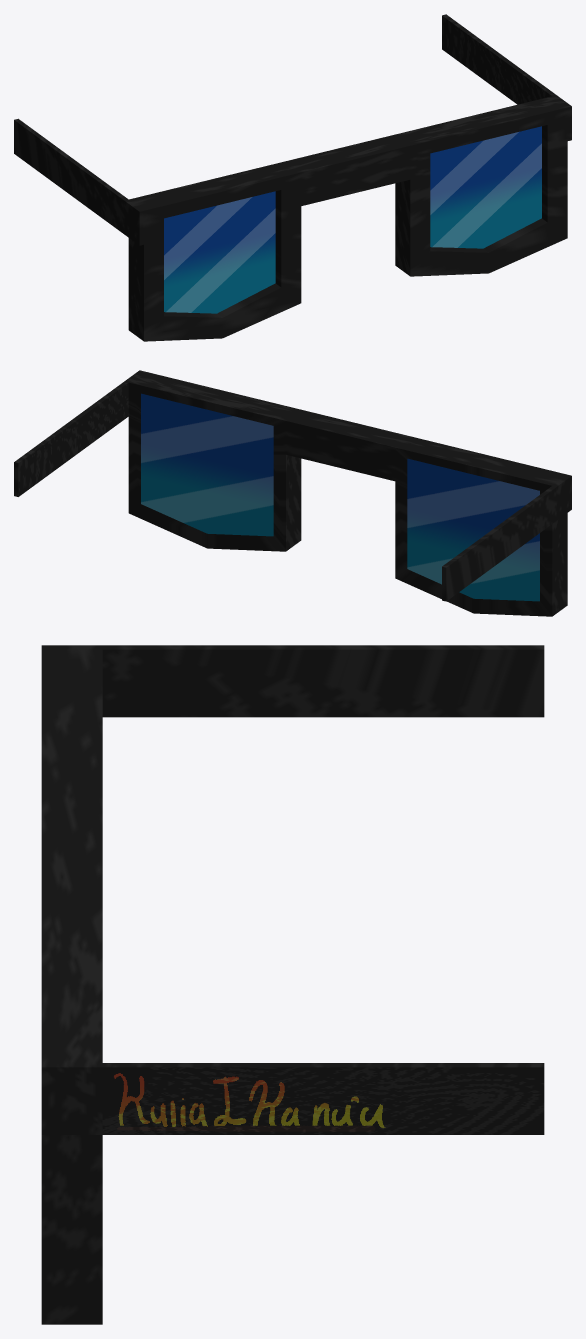
Rendered from Model_glasses.fbx.
The picture shows the model from 3 angles, top to bottom: view 1: azimuth 30°, elevation 25°; view 2: azimuth 150°, elevation 25°; view 3: azimuth 270°, elevation 25°; orthographic projection. The views are drawn at different scales.
Parts seen in each view (by area): view 1: Cube.002; view 2: Cube.002; view 3: Cube.002.
Boxes of the visible parts, <box> form: Cube.002: <box>14,14,571,341</box>; Cube.002: <box>14,370,571,616</box>; Cube.002: <box>41,645,544,1324</box>.
Size of the model in its own units: 4356 by 1414 by 2193.
